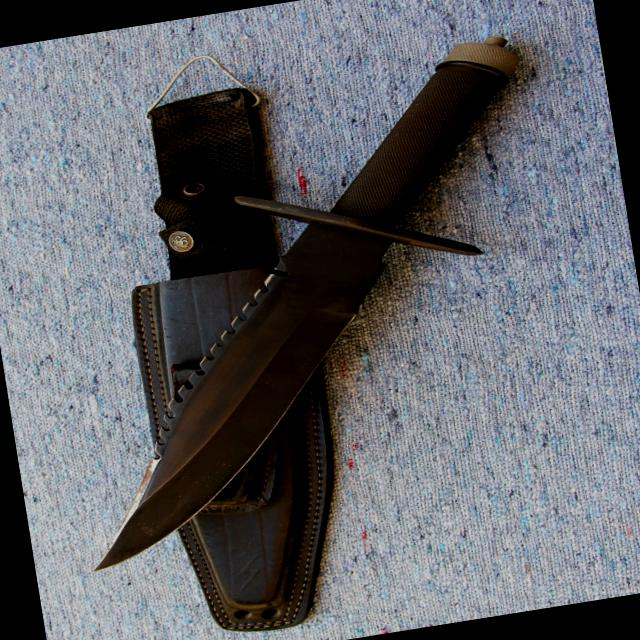knife: (34, 217, 421, 582)
